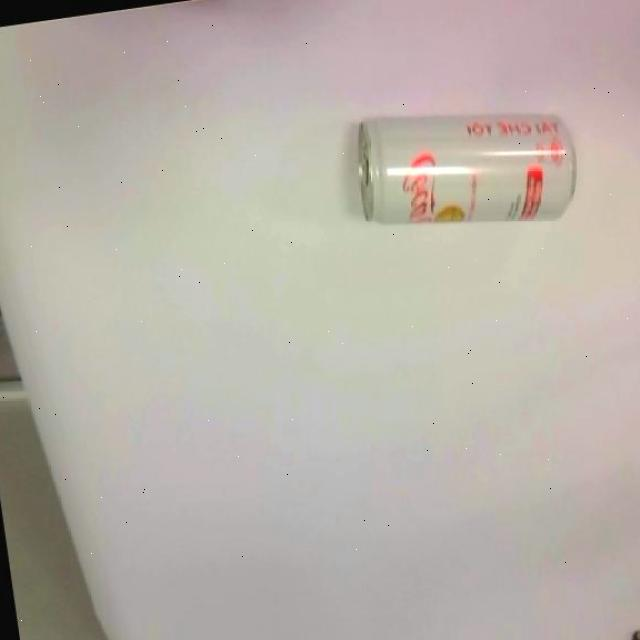debris: (346, 88, 584, 248)
